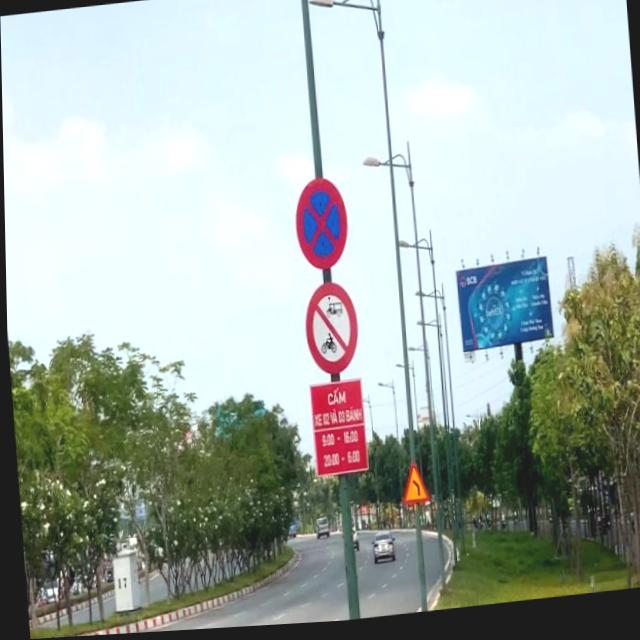Cam dung xe va do xe: (292, 179, 350, 277)
cho ngoat nguy hiem vong ben trai: (398, 465, 427, 510)
